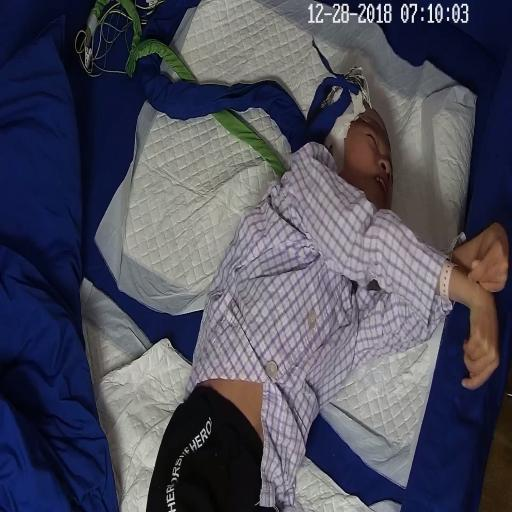Seizure: (323, 88, 398, 209)
